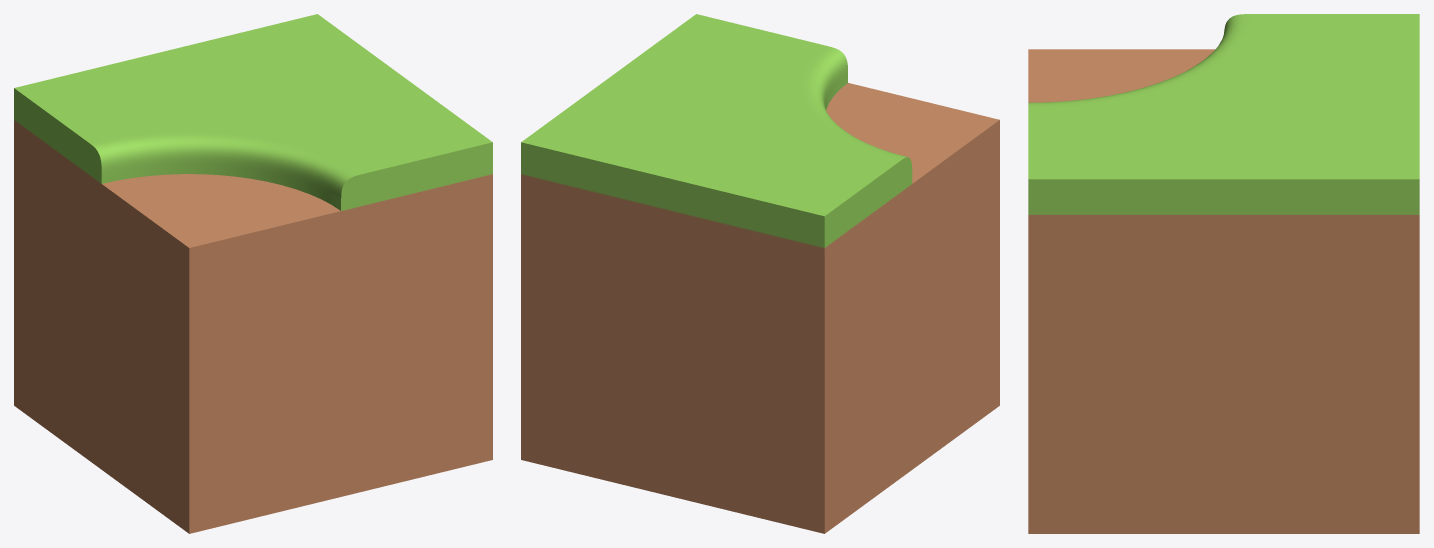
File: Grass-Dirt-1.fbx
3 renders of one model, left to right at view 1: azimuth 30°, elevation 25°; view 2: azimuth 150°, elevation 25°; view 3: azimuth 270°, elevation 25°, orthographic. The views are drawn at different scales.
Visible parts, largest first — view 1: Grass-Dirt-1; view 2: Grass-Dirt-1; view 3: Grass-Dirt-1.
Boxes of the visible parts, <box> form: Grass-Dirt-1: <box>14,14,492,533</box>; Grass-Dirt-1: <box>521,14,999,533</box>; Grass-Dirt-1: <box>1028,14,1419,533</box>.
Bounding box in the file's own units: 100 × 100 × 100.
